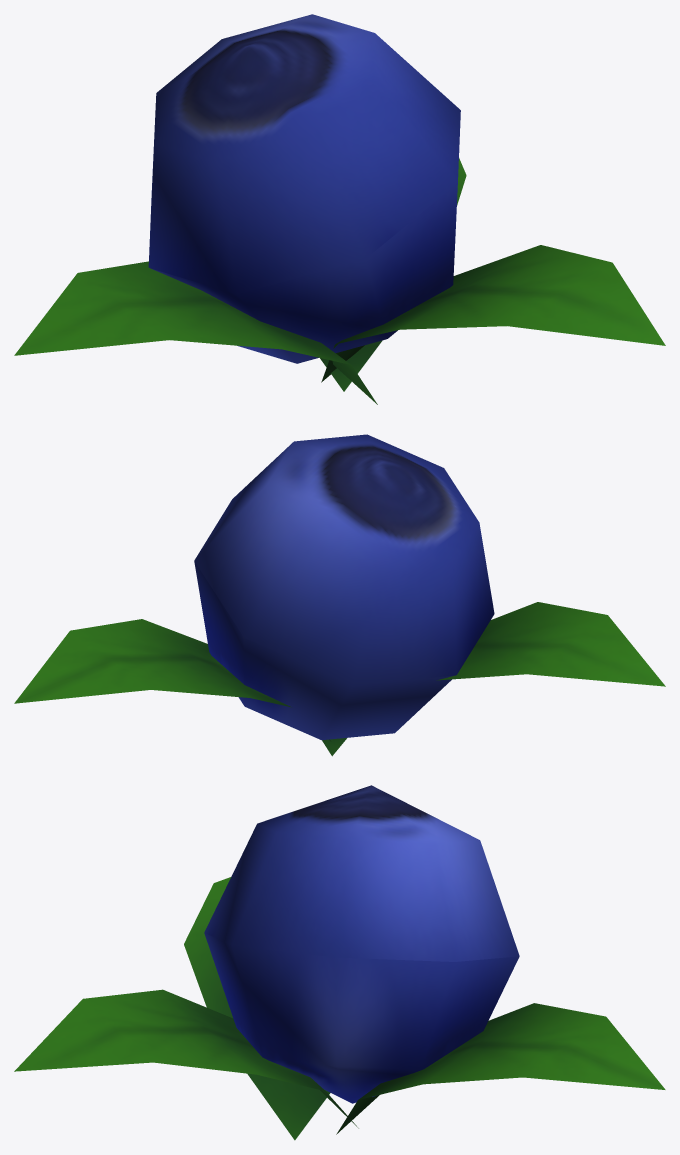
Rendered from bilberry.FBX.
3 renders of one model, top to bottom at view 1: azimuth 30°, elevation 25°; view 2: azimuth 150°, elevation 25°; view 3: azimuth 270°, elevation 25°, orthographic. The views are drawn at different scales.
Visible parts, largest first — view 1: bilberry; view 2: bilberry; view 3: bilberry.
Boxes of the visible parts, x1,y1,x2,y2 form: bilberry: [14, 14, 665, 404]; bilberry: [14, 434, 665, 756]; bilberry: [14, 785, 665, 1140].
Size of the model in its own units: 4.32 by 2.62 by 4.9.
